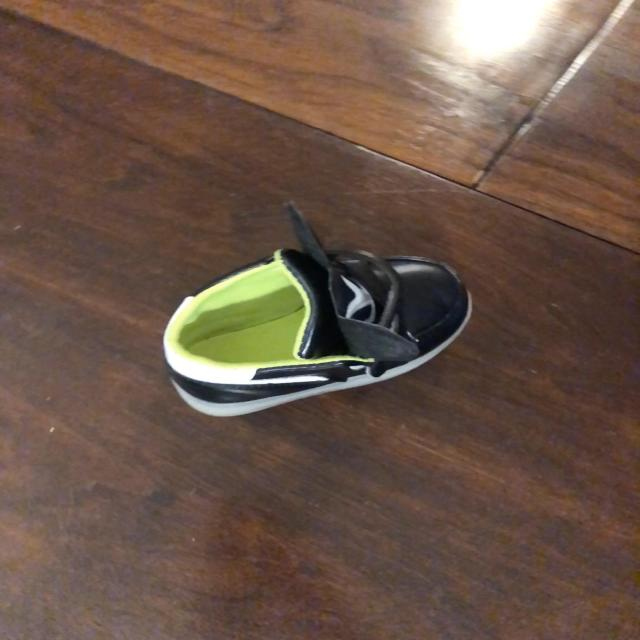shoe: (163, 206, 472, 420)
